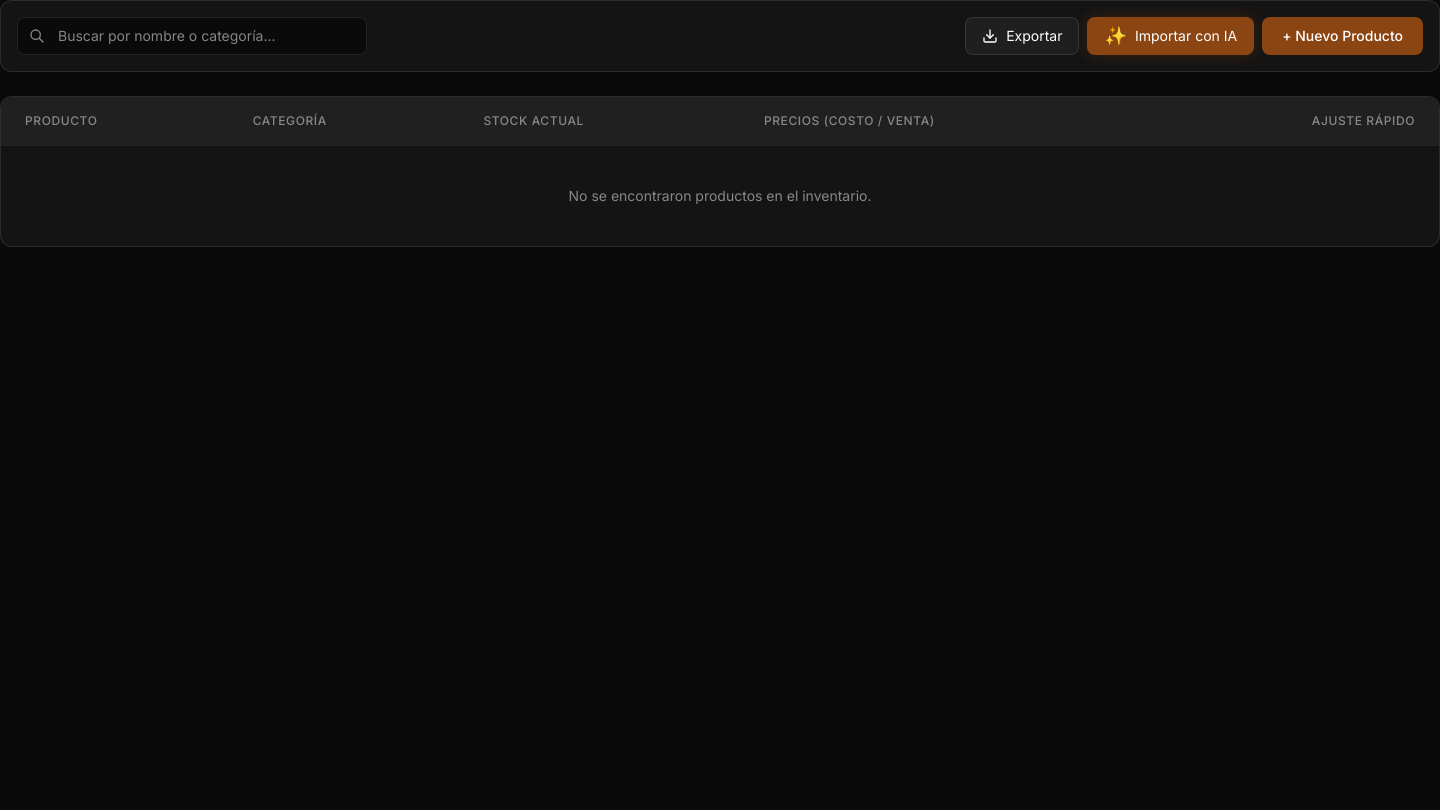
Test: InventoryManager › abre el formulario como dialogo y enfoca el nombre
The image size is (1440, 810).
What coordinates should you click on to do the following:
click the button "+ Nuevo Producto"
I would click on:
 (1343, 36)
Its box is [1262, 17, 1423, 55].
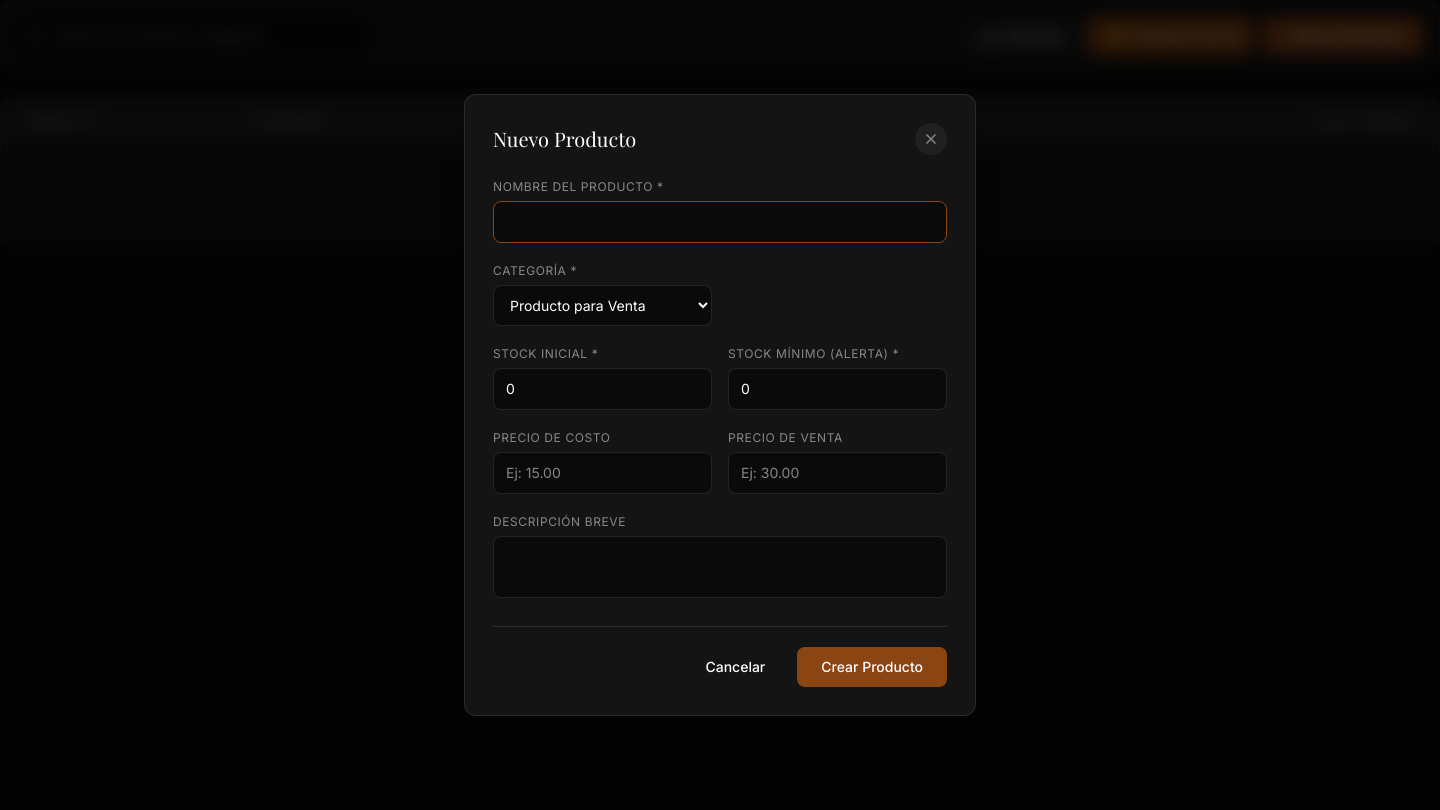
Result: the dialog "Nuevo Producto" is shown at [464, 94, 976, 716]
